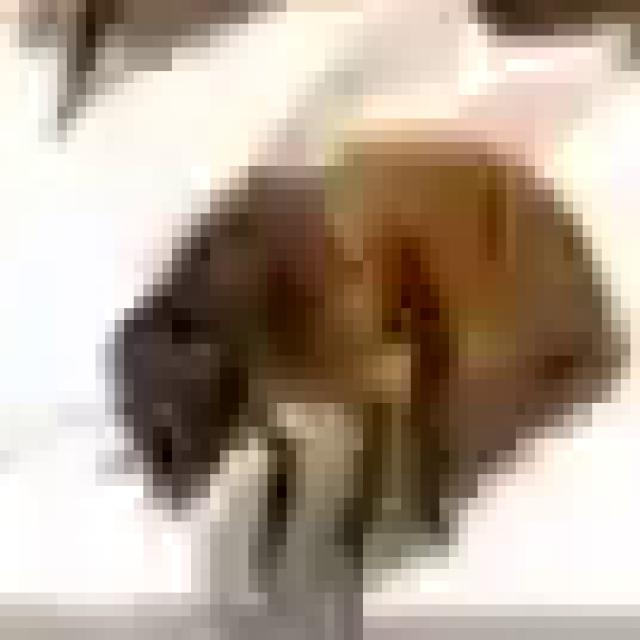honeybee: (115, 156, 581, 533)
